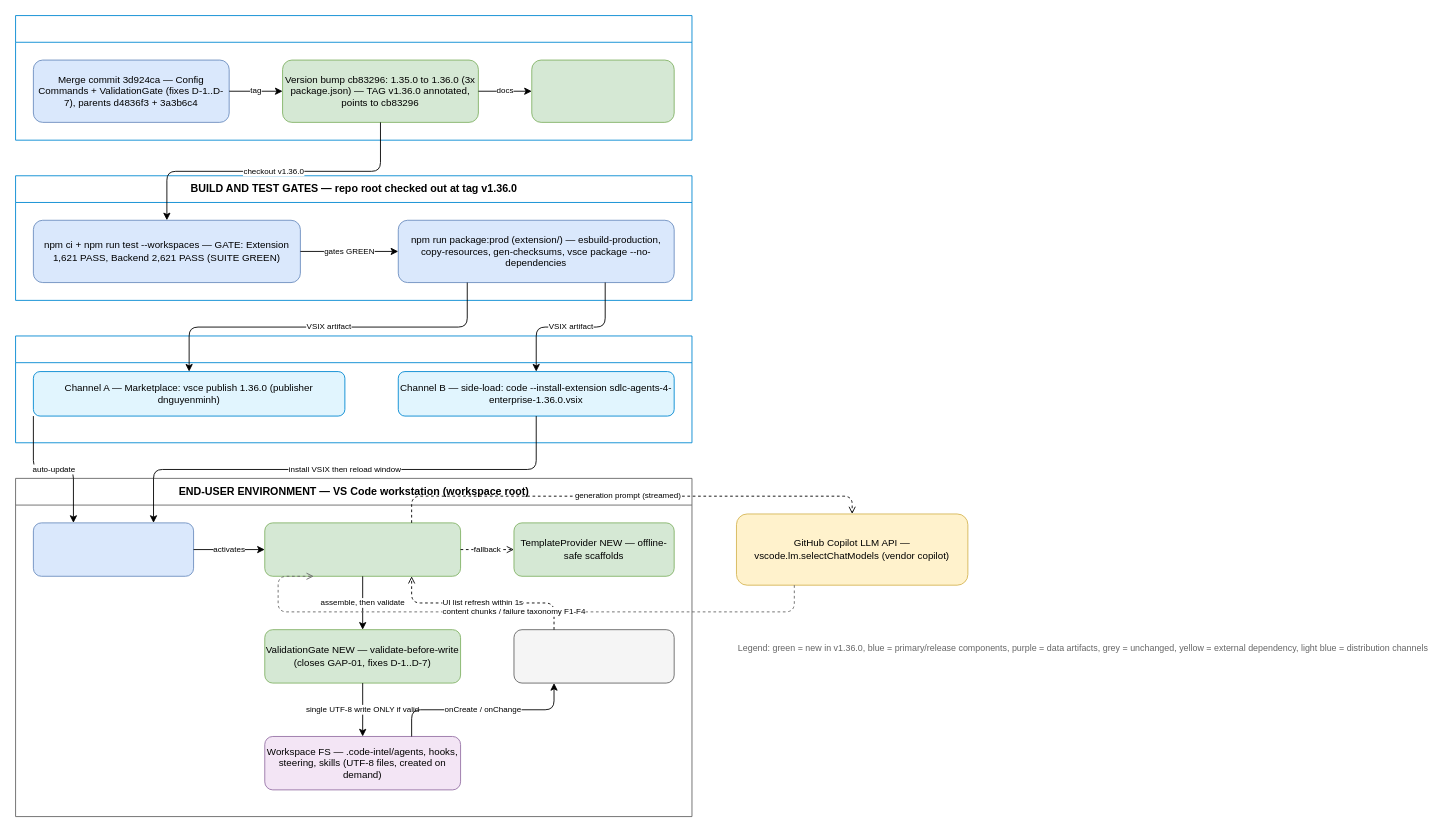
The diagram is 1444 pixels wide and 832 high, and some of its shapes have lost their labels. Each missing label, with the box of its shape:
ConfigCommands x4 NEW — thin orchestrators (593 to 195 lines): (264, 522, 461, 576)
DISTRIBUTION CHANNELS: (15, 335, 692, 443)
HotReloadWatcher SA4E-189 (unchanged) — 300 ms debounce, UI list refresh: (513, 629, 674, 683)
Kiro Extension v1.36.0 — Extension Host activation: (32, 522, 194, 576)
README changelog c492837 (stale v1.34.0 deleted): (531, 59, 674, 122)
SOURCE — GitHub main (default branch): (15, 15, 692, 140)
